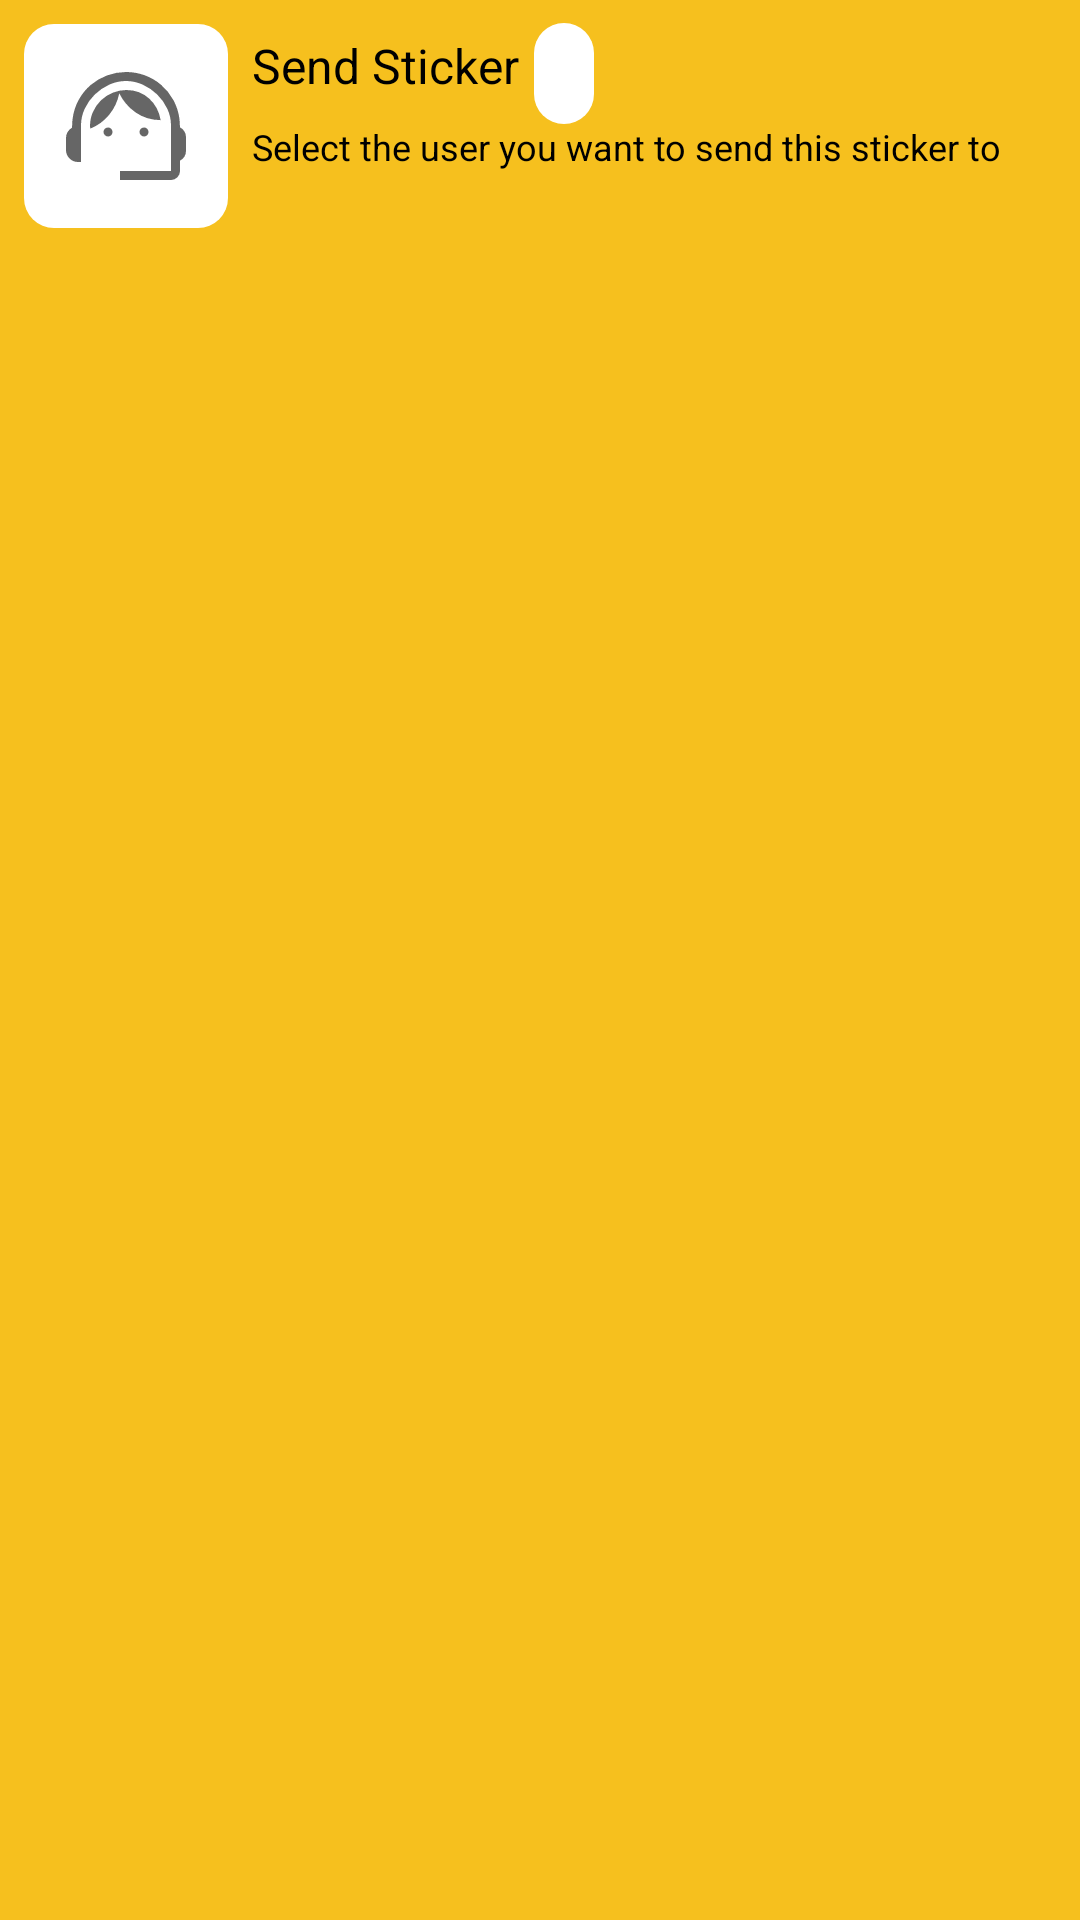

Screen size 1080px×1920px. Icon name, then its center in pixels as (x=x, y=y):
supportagent: (x=126, y=126)
